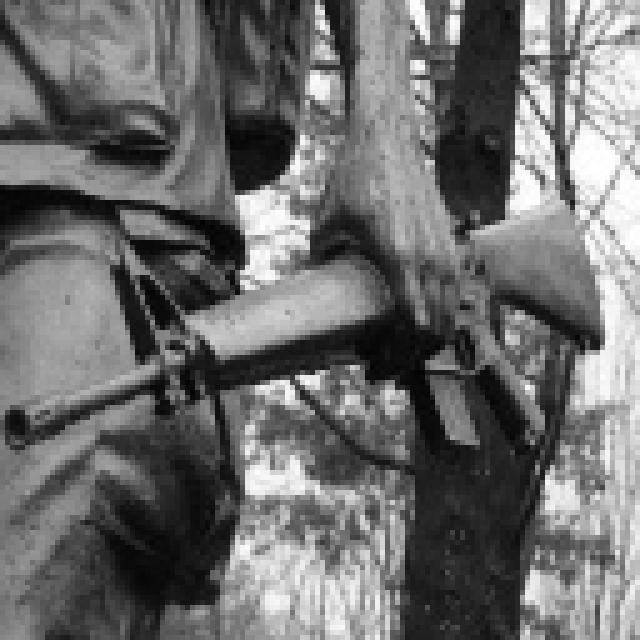Rifle: (0, 204, 631, 527)
